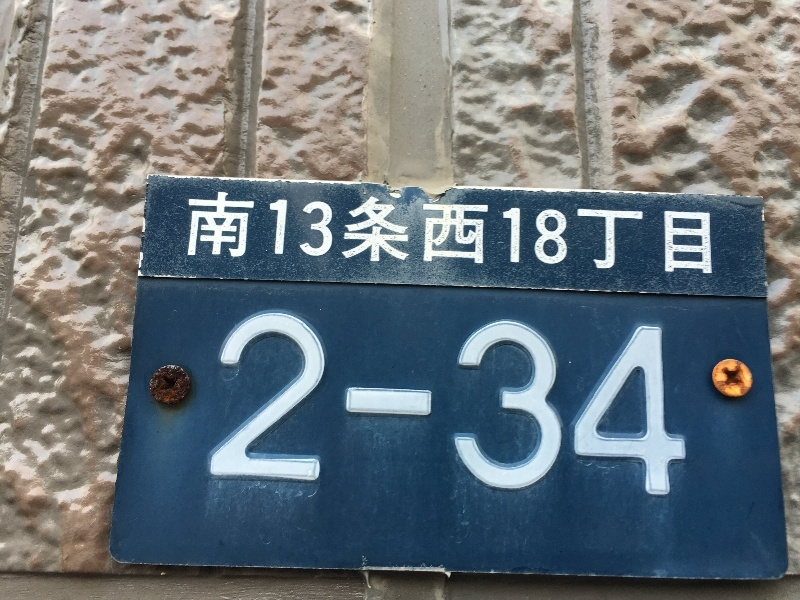text: (225, 308, 240, 498), (241, 308, 256, 498), (257, 308, 272, 498), (273, 308, 288, 498), (289, 308, 304, 498), (305, 308, 320, 498), (321, 308, 336, 498), (337, 308, 352, 498), (353, 308, 368, 498), (369, 308, 384, 498), (385, 308, 400, 498), (401, 308, 416, 498), (417, 308, 432, 498), (433, 308, 448, 498), (449, 308, 464, 498), (465, 308, 480, 498), (481, 308, 496, 498), (497, 308, 512, 498), (513, 308, 528, 498), (529, 308, 544, 498), (545, 308, 560, 498), (561, 308, 576, 498), (577, 308, 592, 498), (593, 308, 608, 498), (609, 308, 624, 498), (625, 308, 640, 498), (641, 308, 656, 498), (657, 308, 672, 498), (673, 308, 688, 498), (193, 191, 208, 281), (209, 191, 224, 281), (225, 191, 240, 281), (241, 191, 256, 281), (257, 191, 272, 281), (273, 191, 288, 281), (289, 191, 304, 281), (305, 191, 320, 281), (321, 191, 336, 281), (337, 191, 352, 281), (353, 191, 368, 281), (369, 191, 384, 281), (385, 191, 400, 281), (401, 191, 416, 281), (417, 191, 432, 281), (433, 191, 448, 281), (449, 191, 464, 281), (465, 191, 480, 281), (481, 191, 496, 281), (497, 191, 512, 281), (513, 191, 528, 281), (529, 191, 544, 281), (545, 191, 560, 281), (561, 191, 576, 281), (577, 191, 592, 281), (593, 191, 608, 281), (609, 191, 624, 281), (625, 191, 640, 281), (641, 191, 656, 281), (657, 191, 672, 281), (673, 191, 688, 281), (689, 191, 704, 281), (705, 191, 715, 281), (188, 191, 192, 281), (223, 308, 224, 498)
